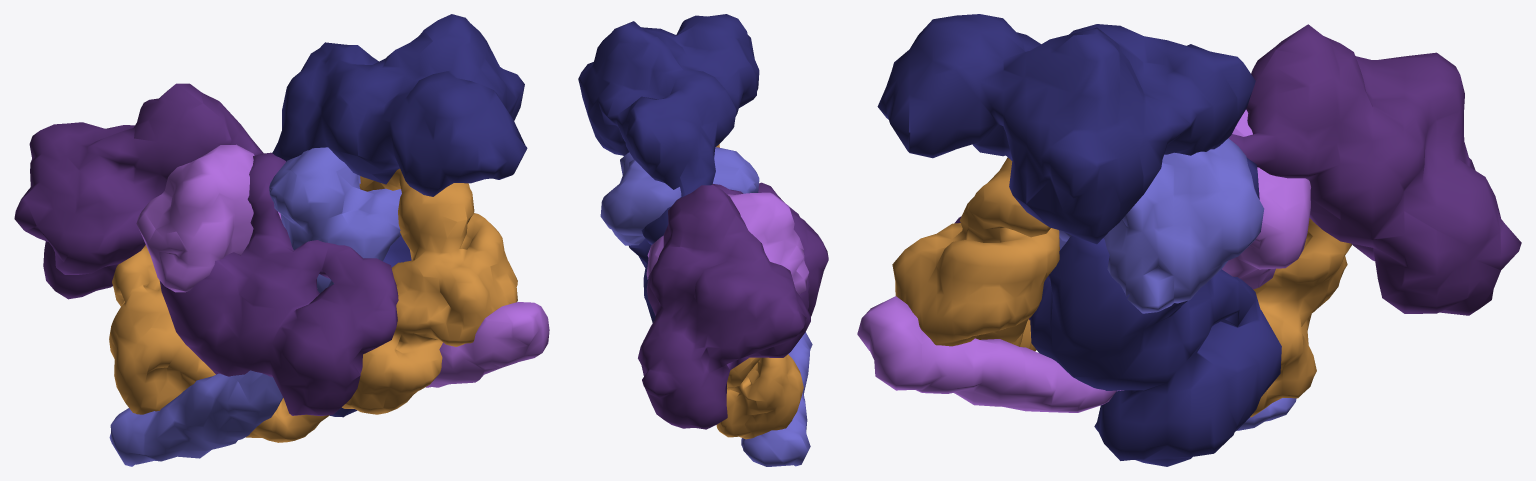
Rendered from hexamer1EIY.fbx.
3 renders of one model, left to right at view 1: azimuth 30°, elevation 25°; view 2: azimuth 150°, elevation 25°; view 3: azimuth 270°, elevation 25°, orthographic. The views are drawn at different scales.
Parts seen in each view (by area): view 1: CoarseMS_1eiyBio_SelectionB2, CoarseMS_1eiyBio_SelectionB, CoarseMS_1eiyBio_SelectionC, CoarseMS_1eiyBio_SelectionA, CoarseMS_1eiyBio_SelectionA2, CoarseMS_1eiyBio_SelectionC2; view 2: CoarseMS_1eiyBio_SelectionB2, CoarseMS_1eiyBio_SelectionB, CoarseMS_1eiyBio_SelectionA, CoarseMS_1eiyBio_SelectionC2, CoarseMS_1eiyBio_SelectionA2; view 3: CoarseMS_1eiyBio_SelectionB, CoarseMS_1eiyBio_SelectionB2, CoarseMS_1eiyBio_SelectionA2, CoarseMS_1eiyBio_SelectionC, CoarseMS_1eiyBio_SelectionA, CoarseMS_1eiyBio_SelectionC2.
Part boxes in pixels (<box>): CoarseMS_1eiyBio_SelectionB2: <box>14,83,398,415</box>; CoarseMS_1eiyBio_SelectionB: <box>272,14,527,417</box>; CoarseMS_1eiyBio_SelectionC: <box>342,168,517,414</box>; CoarseMS_1eiyBio_SelectionA: <box>109,147,401,466</box>; CoarseMS_1eiyBio_SelectionA2: <box>136,144,549,387</box>; CoarseMS_1eiyBio_SelectionC2: <box>109,245,329,442</box>; CoarseMS_1eiyBio_SelectionB2: <box>638,182,828,429</box>; CoarseMS_1eiyBio_SelectionB: <box>578,14,759,340</box>; CoarseMS_1eiyBio_SelectionA: <box>600,147,812,466</box>; CoarseMS_1eiyBio_SelectionC2: <box>716,354,803,439</box>; CoarseMS_1eiyBio_SelectionA2: <box>646,192,808,294</box>; CoarseMS_1eiyBio_SelectionB: <box>877,14,1281,466</box>; CoarseMS_1eiyBio_SelectionB2: <box>955,24,1521,320</box>; CoarseMS_1eiyBio_SelectionA2: <box>857,109,1310,412</box>; CoarseMS_1eiyBio_SelectionC: <box>892,157,1059,351</box>; CoarseMS_1eiyBio_SelectionA: <box>1059,138,1296,430</box>; CoarseMS_1eiyBio_SelectionC2: <box>1250,218,1351,417</box>.
Bounding box in the file's own units: 138 × 145 × 163.
